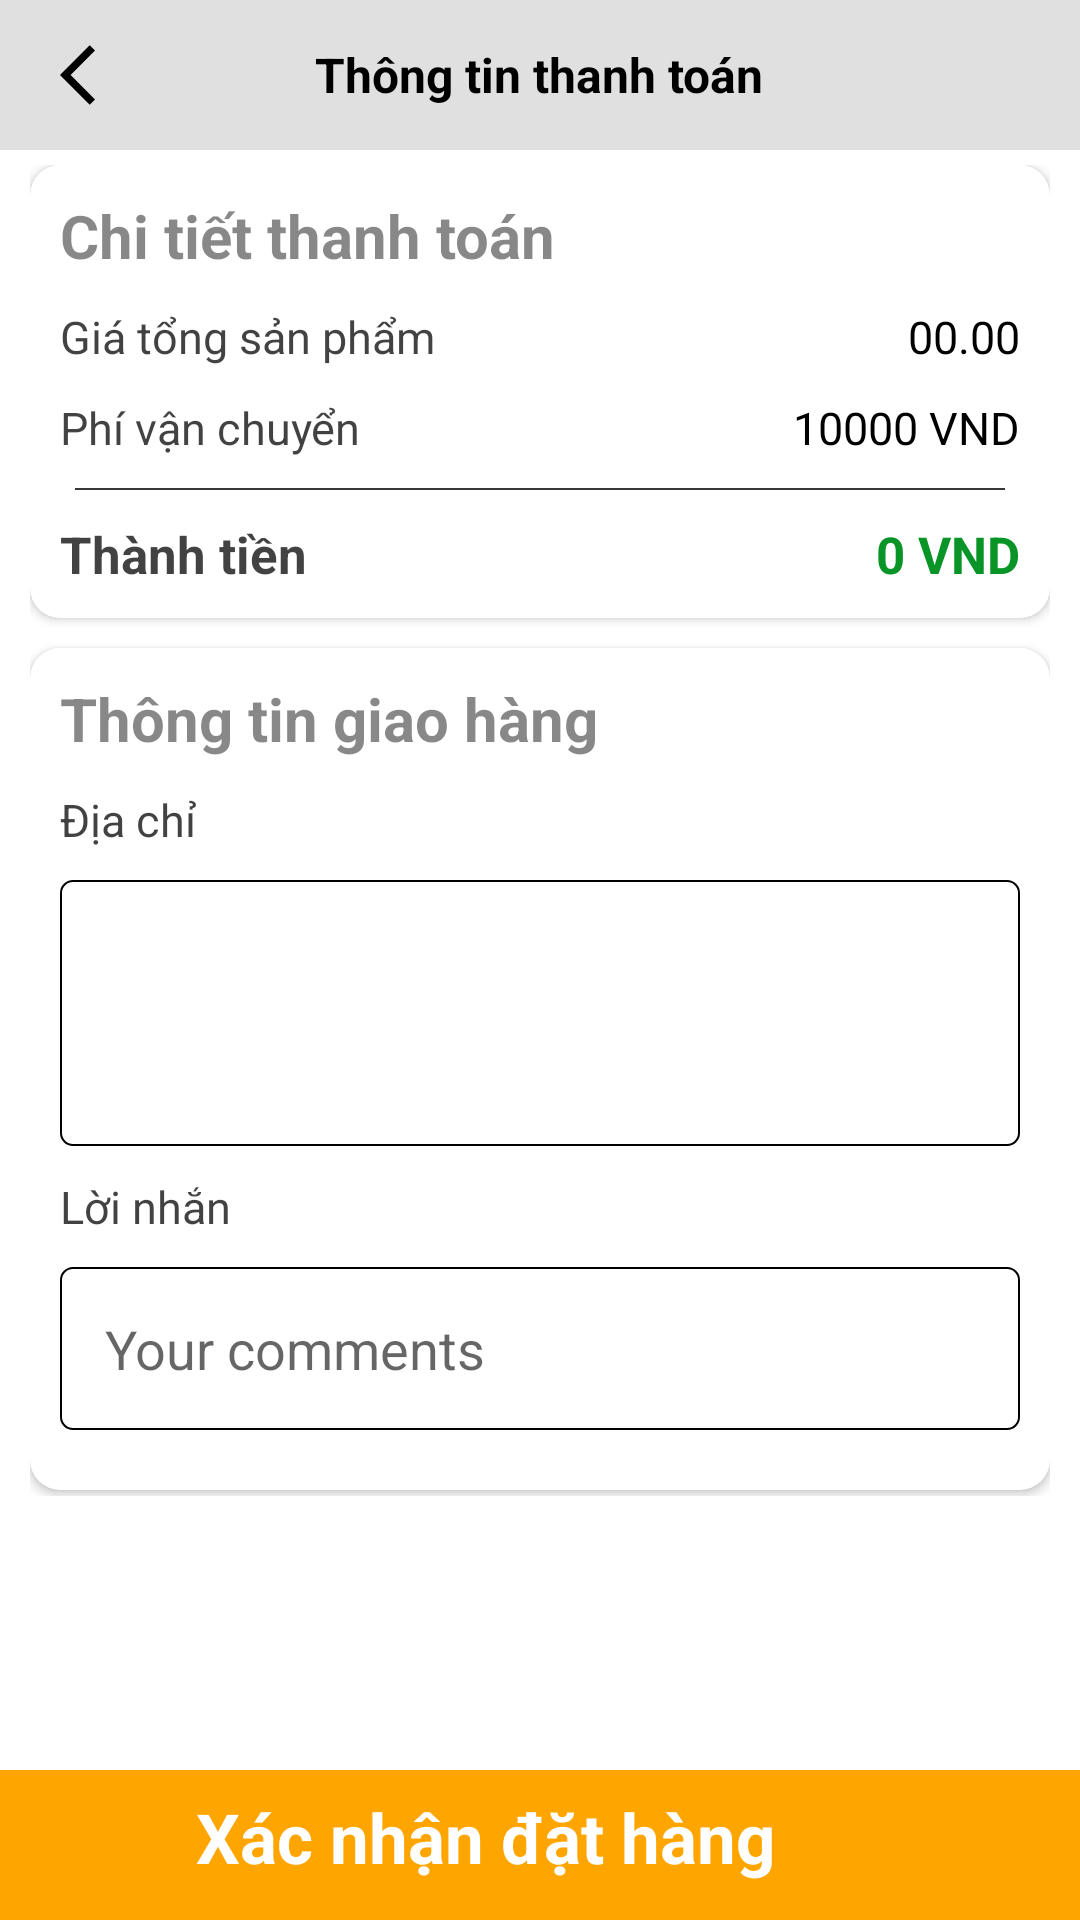

Icons on this 1080px x 1920px Android screen, each with its box as (x1=x1, y1=y1, x2=x2, y2=y2):
back arrow: (x1=60, y1=45, x2=95, y2=105)
